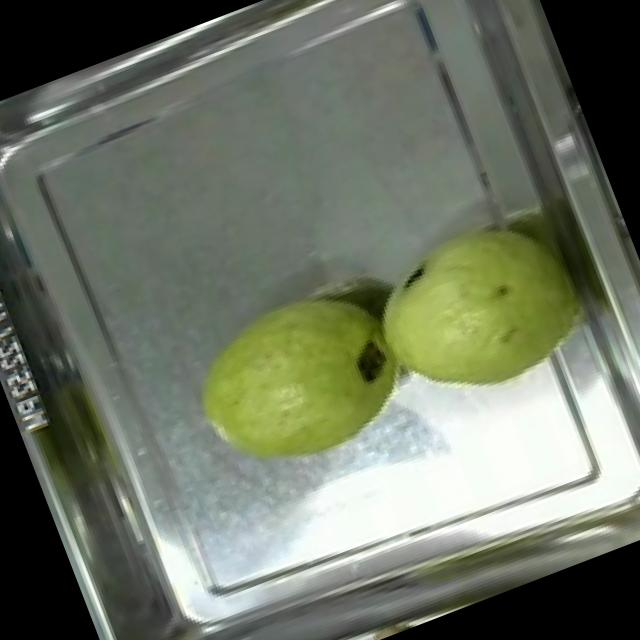Fruit: (344, 186, 601, 429), (166, 262, 424, 500)
